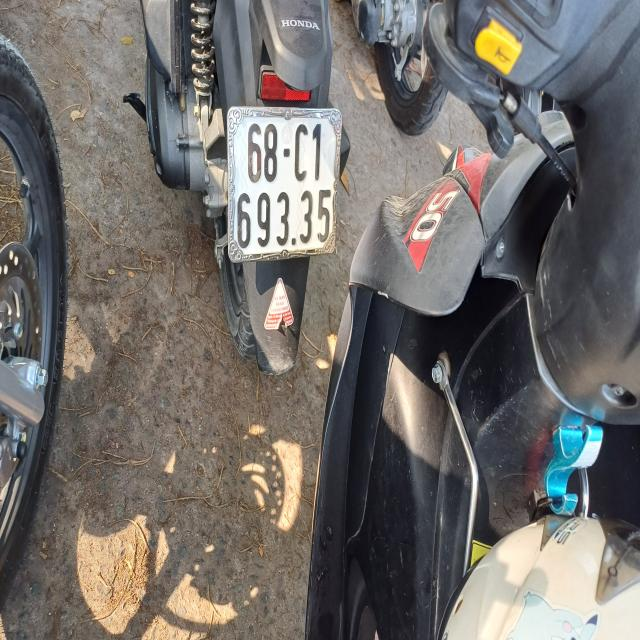1: (312, 122, 321, 179)
3: (276, 190, 290, 247), (300, 188, 313, 245)
5: (318, 188, 331, 244)
6: (248, 122, 262, 182), (238, 191, 251, 252)
8: (263, 122, 277, 184)
9: (256, 191, 272, 247)
C: (295, 123, 307, 180)
